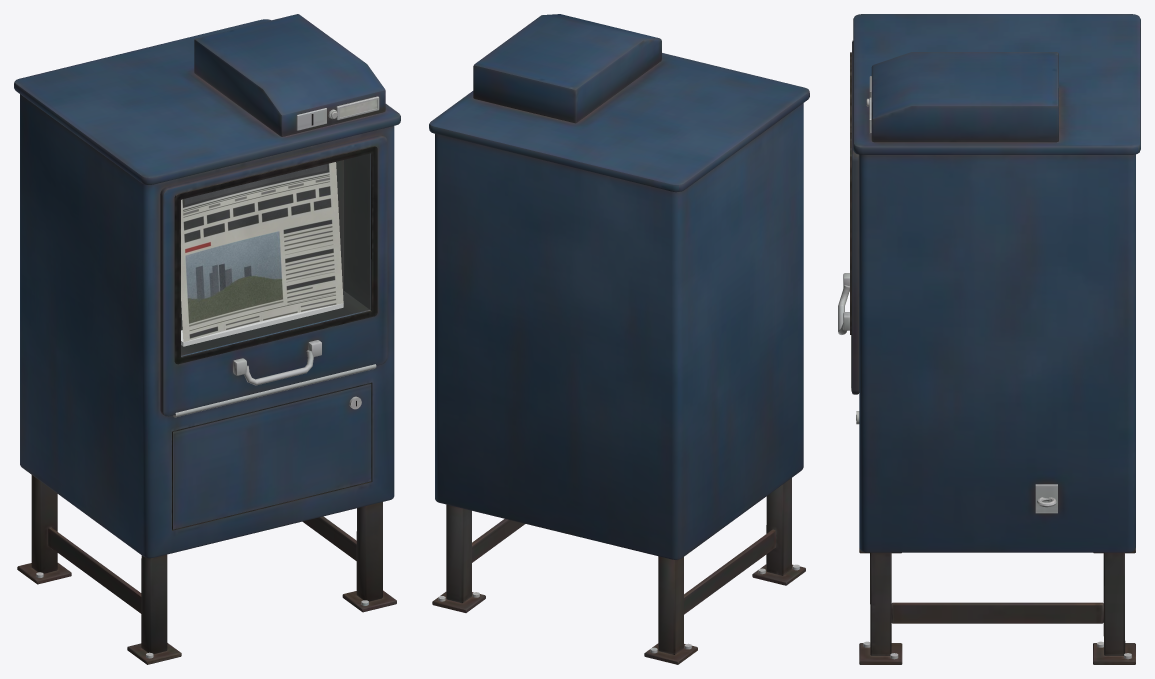
The model's file is newspaper-stand.glb.
3 views of the same model, side by side, from view 1: azimuth 30°, elevation 25°; view 2: azimuth 150°, elevation 25°; view 3: azimuth 270°, elevation 25° (orthographic). The views are drawn at different scales.
Parts seen in each view (by area): view 1: newspaper-stand_body, newspaper-stand_window_glass, newspaper-stand_newspaper_paper, newspaper-stand_paper_stack; view 2: newspaper-stand_body; view 3: newspaper-stand_body.
Part boxes in pixels (left/top/right/bottom): newspaper-stand_body: left=14, top=14, right=400, bottom=664; newspaper-stand_window_glass: left=181, top=154, right=370, bottom=356; newspaper-stand_newspaper_paper: left=181, top=162, right=343, bottom=342; newspaper-stand_paper_stack: left=181, top=303, right=343, bottom=346; newspaper-stand_body: left=429, top=14, right=809, bottom=664; newspaper-stand_body: left=838, top=14, right=1140, bottom=664.
Bounding box in the file's own units: 0.538 × 1 × 0.4925.
Materials: 4 (2 with a texture image).
